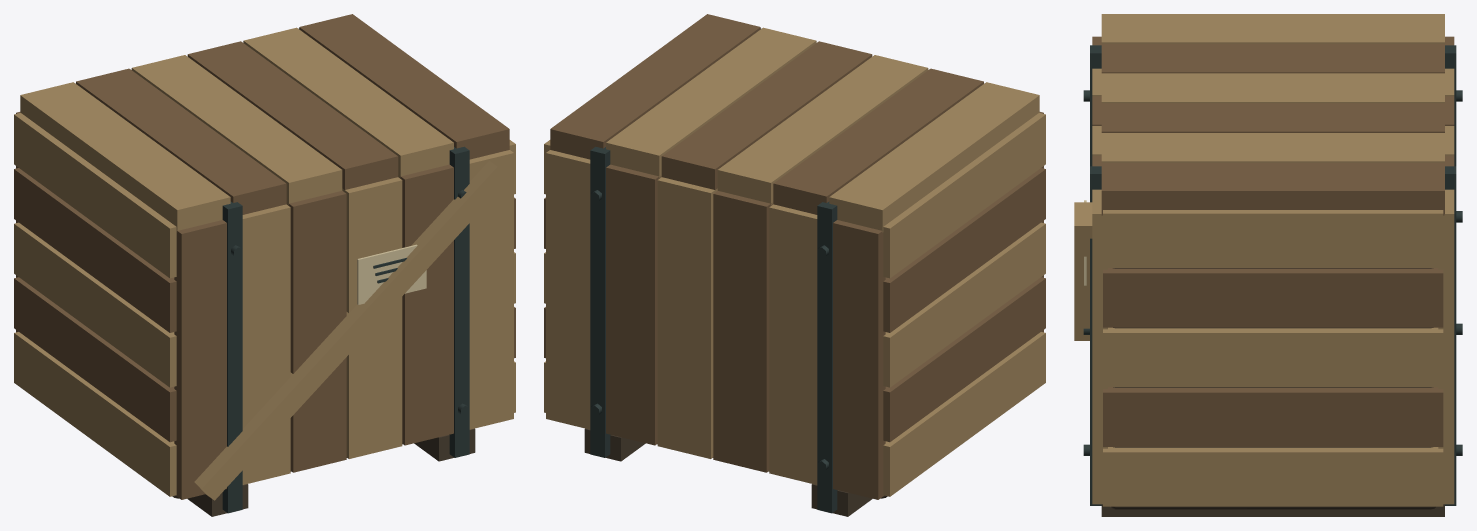
File: SM_CargoCrate_01.glb
3 renders of one model, left to right at view 1: azimuth 30°, elevation 25°; view 2: azimuth 150°, elevation 25°; view 3: azimuth 270°, elevation 25°, orthographic. The views are drawn at different scales.
Visible parts, largest first — view 1: SM_CargoCrate_01_M_DH_woodLight, SM_CargoCrate_01_M_DH_wood, SM_CargoCrate_01_M_DH_iron, SM_CargoCrate_01_M_DH_paper, SM_CargoCrate_01_M_DH_woodDark; view 2: SM_CargoCrate_01_M_DH_woodLight, SM_CargoCrate_01_M_DH_wood, SM_CargoCrate_01_M_DH_iron, SM_CargoCrate_01_M_DH_woodDark; view 3: SM_CargoCrate_01_M_DH_woodLight, SM_CargoCrate_01_M_DH_wood, SM_CargoCrate_01_M_DH_woodDark, SM_CargoCrate_01_M_DH_iron (×2).
Boxes of the visible parts, x1,y1,x2,y2 form: SM_CargoCrate_01_M_DH_woodLight: [14, 27, 515, 500]; SM_CargoCrate_01_M_DH_wood: [14, 14, 515, 499]; SM_CargoCrate_01_M_DH_iron: [222, 28, 469, 513]; SM_CargoCrate_01_M_DH_paper: [357, 244, 426, 304]; SM_CargoCrate_01_M_DH_woodDark: [172, 428, 475, 516]; SM_CargoCrate_01_M_DH_woodLight: [544, 27, 1045, 496]; SM_CargoCrate_01_M_DH_wood: [544, 14, 1045, 499]; SM_CargoCrate_01_M_DH_iron: [590, 28, 837, 513]; SM_CargoCrate_01_M_DH_woodDark: [584, 428, 887, 516]; SM_CargoCrate_01_M_DH_woodLight: [1074, 14, 1454, 506]; SM_CargoCrate_01_M_DH_wood: [1092, 36, 1454, 446]; SM_CargoCrate_01_M_DH_woodDark: [1101, 268, 1444, 516]; SM_CargoCrate_01_M_DH_iron (×2): [1083, 45, 1462, 505].
Bounding box in the file's own units: 1.52 × 1.33 × 1.36.
